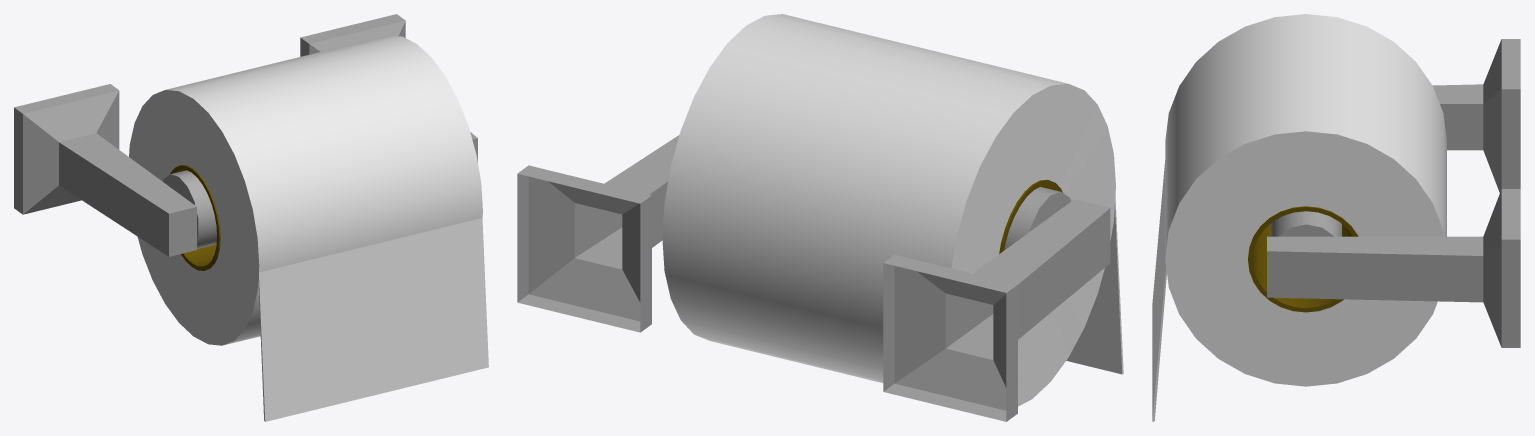
The model's file is ToiletPaper.fbx.
3 views of the same model, side by side, from view 1: azimuth 30°, elevation 25°; view 2: azimuth 150°, elevation 25°; view 3: azimuth 270°, elevation 25° (orthographic). The views are drawn at different scales.
Visible parts, largest first — view 1: ToiletPaper; view 2: ToiletPaper; view 3: ToiletPaper.
Part boxes in pixels (x1,y1,x2,y2): ToiletPaper: [14, 14, 488, 421]; ToiletPaper: [517, 14, 1123, 421]; ToiletPaper: [1152, 14, 1520, 421].
Bounding box in the file's own units: 45.24 × 30.57 × 35.11.
